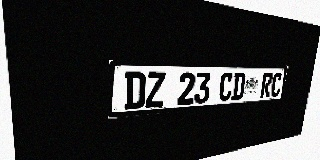2: (177, 72, 196, 105)
3: (194, 72, 211, 104)
C: (218, 72, 234, 102), (270, 72, 283, 97)
D: (124, 72, 146, 110), (231, 72, 246, 101)
R: (260, 72, 273, 98)
Z: (145, 72, 166, 108)
